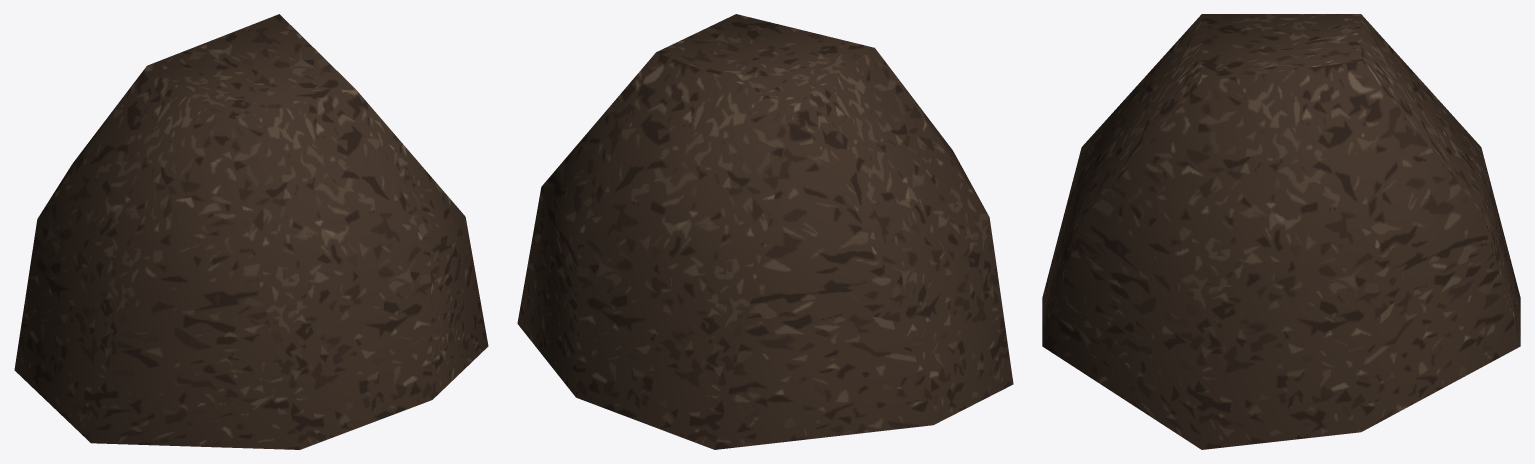
File: dug_pile2.FBX
3 renders of one model, left to right at view 1: azimuth 30°, elevation 25°; view 2: azimuth 150°, elevation 25°; view 3: azimuth 270°, elevation 25°, orthographic. The views are drawn at different scales.
Visible parts, largest first — view 1: dug_pile2; view 2: dug_pile2; view 3: dug_pile2.
Part boxes in pixels (<box>): dug_pile2: <box>14,14,488,449</box>; dug_pile2: <box>517,14,1013,449</box>; dug_pile2: <box>1042,14,1520,449</box>.
Bounding box in the file's own units: 100 × 74.18 × 100.
